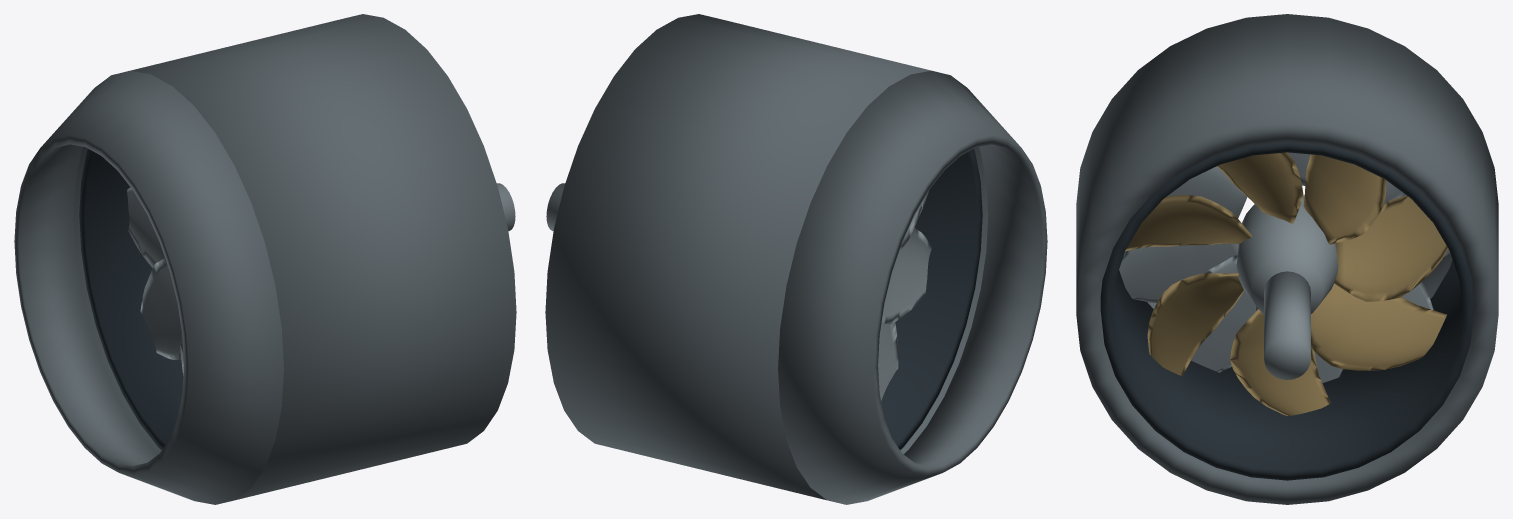
Rendered from CN_PJ_Type093B_LOD0.fbx.
The picture shows the model from 3 angles, left to right: view 1: azimuth 30°, elevation 25°; view 2: azimuth 150°, elevation 25°; view 3: azimuth 270°, elevation 25°; orthographic projection. The views are drawn at different scales.
Visible parts, largest first — view 1: CN_PJ_Type093B_LOD0_Housing.001, CN_PJ_Type093B_LOD0_Nozzle.001, CN_PJ_Type093B_LOD0_Lining.001, CN_PJ_Type093B_LOD0_Stator_08.001, CN_PJ_Type093B_LOD0_Stator_00.001; view 2: CN_PJ_Type093B_LOD0_Housing.001, CN_PJ_Type093B_LOD0_Nozzle.001, CN_PJ_Type093B_LOD0_Lining.001, CN_PJ_Type093B_LOD0_Stator_05.001, CN_PJ_Type093B_LOD0_Stator_06.001; view 3: CN_PJ_Type093B_LOD0_Housing.001, CN_PJ_Type093B_LOD0_Lining.001, CN_PJ_Type093B_LOD0_Rotor_06.001, CN_PJ_Type093B_LOD0_Rotor_00.001, CN_PJ_Type093B_LOD0_Hub.001, CN_PJ_Type093B_LOD0_Rotor_04.001, CN_PJ_Type093B_LOD0_Rotor_01.001, CN_PJ_Type093B_LOD0_Shaft.001, CN_PJ_Type093B_LOD0_Rotor_05.001, CN_PJ_Type093B_LOD0_Rotor_03.001, CN_PJ_Type093B_LOD0_Stator_05.001, CN_PJ_Type093B_LOD0_Rotor_02.001 (+3 smaller).
Boxes of the visible parts, left/top/right/bottom form: CN_PJ_Type093B_LOD0_Housing.001: left=73, top=14, right=516, bottom=500; CN_PJ_Type093B_LOD0_Nozzle.001: left=14, top=70, right=283, bottom=504; CN_PJ_Type093B_LOD0_Lining.001: left=79, top=149, right=183, bottom=449; CN_PJ_Type093B_LOD0_Stator_08.001: left=140, top=258, right=181, bottom=359; CN_PJ_Type093B_LOD0_Stator_00.001: left=126, top=187, right=164, bottom=267; CN_PJ_Type093B_LOD0_Housing.001: left=545, top=14, right=988, bottom=500; CN_PJ_Type093B_LOD0_Nozzle.001: left=778, top=70, right=1047, bottom=504; CN_PJ_Type093B_LOD0_Lining.001: left=881, top=149, right=982, bottom=449; CN_PJ_Type093B_LOD0_Stator_05.001: left=881, top=228, right=932, bottom=324; CN_PJ_Type093B_LOD0_Stator_06.001: left=878, top=322, right=898, bottom=400; CN_PJ_Type093B_LOD0_Housing.001: left=1076, top=14, right=1498, bottom=504; CN_PJ_Type093B_LOD0_Lining.001: left=1100, top=142, right=1474, bottom=480; CN_PJ_Type093B_LOD0_Rotor_06.001: left=1311, top=283, right=1447, bottom=370; CN_PJ_Type093B_LOD0_Rotor_00.001: left=1334, top=195, right=1448, bottom=301; CN_PJ_Type093B_LOD0_Hub.001: left=1236, top=195, right=1338, bottom=313; CN_PJ_Type093B_LOD0_Rotor_04.001: left=1147, top=273, right=1244, bottom=376; CN_PJ_Type093B_LOD0_Rotor_01.001: left=1303, top=154, right=1386, bottom=244; CN_PJ_Type093B_LOD0_Shaft.001: left=1264, top=271, right=1310, bottom=379; CN_PJ_Type093B_LOD0_Rotor_05.001: left=1230, top=309, right=1330, bottom=415; CN_PJ_Type093B_LOD0_Rotor_03.001: left=1125, top=195, right=1252, bottom=251; CN_PJ_Type093B_LOD0_Stator_05.001: left=1119, top=243, right=1238, bottom=303; CN_PJ_Type093B_LOD0_Rotor_02.001: left=1217, top=152, right=1303, bottom=223.
Size of the model in its own units: 564 by 540 by 540.
